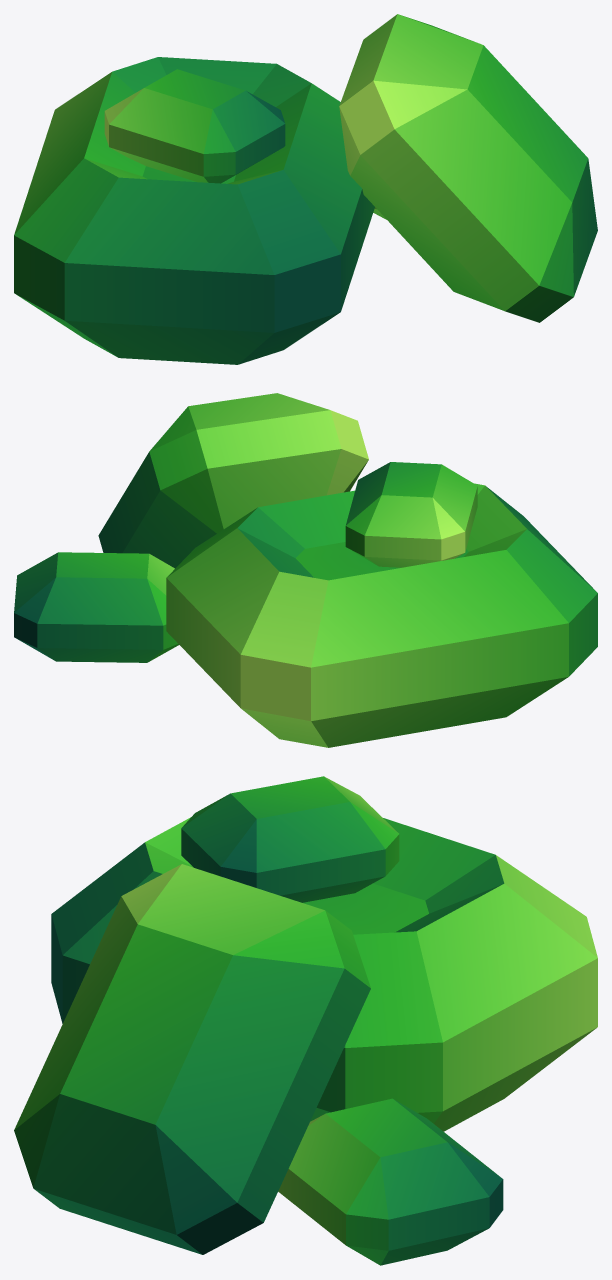
The model's file is Emerald_04.glb.
The picture shows the model from 3 angles, top to bottom: view 1: azimuth 30°, elevation 25°; view 2: azimuth 150°, elevation 25°; view 3: azimuth 270°, elevation 25°; orthographic projection. The views are drawn at different scales.
Parts seen in each view (by area): view 1: Emerald_04; view 2: Emerald_04; view 3: Emerald_04.
Boxes of the visible parts, bbox=[...] form: Emerald_04: bbox=[14, 14, 597, 364]; Emerald_04: bbox=[14, 393, 597, 747]; Emerald_04: bbox=[14, 776, 597, 1265].
Size of the model in its own units: 0.6437 by 0.2621 by 0.4882.
1 material, 1 textured.
